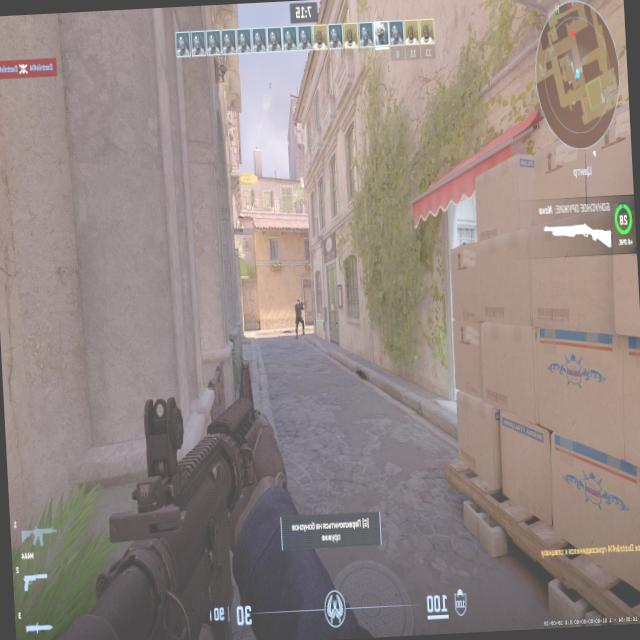CT: (294, 298, 304, 332)
CT_heat: (296, 299, 300, 305)
